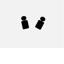human: (33, 14, 46, 30), (18, 14, 30, 29)
